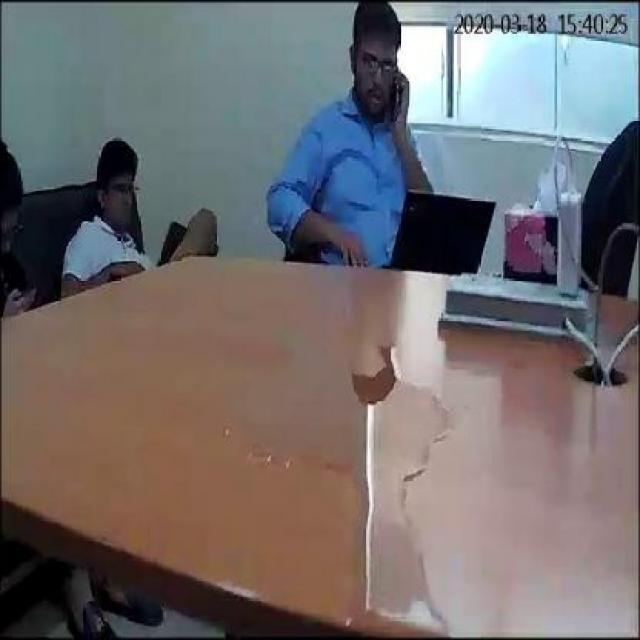spill: (217, 328, 457, 634)
